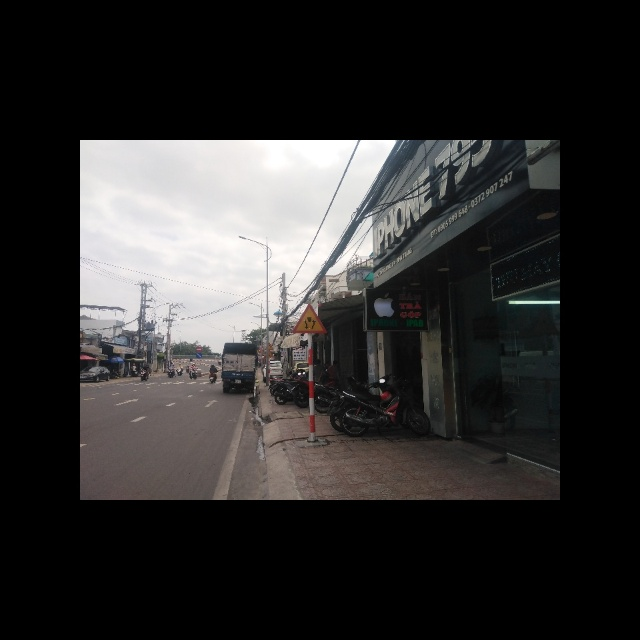Đường đôi: (292, 302, 325, 333)
